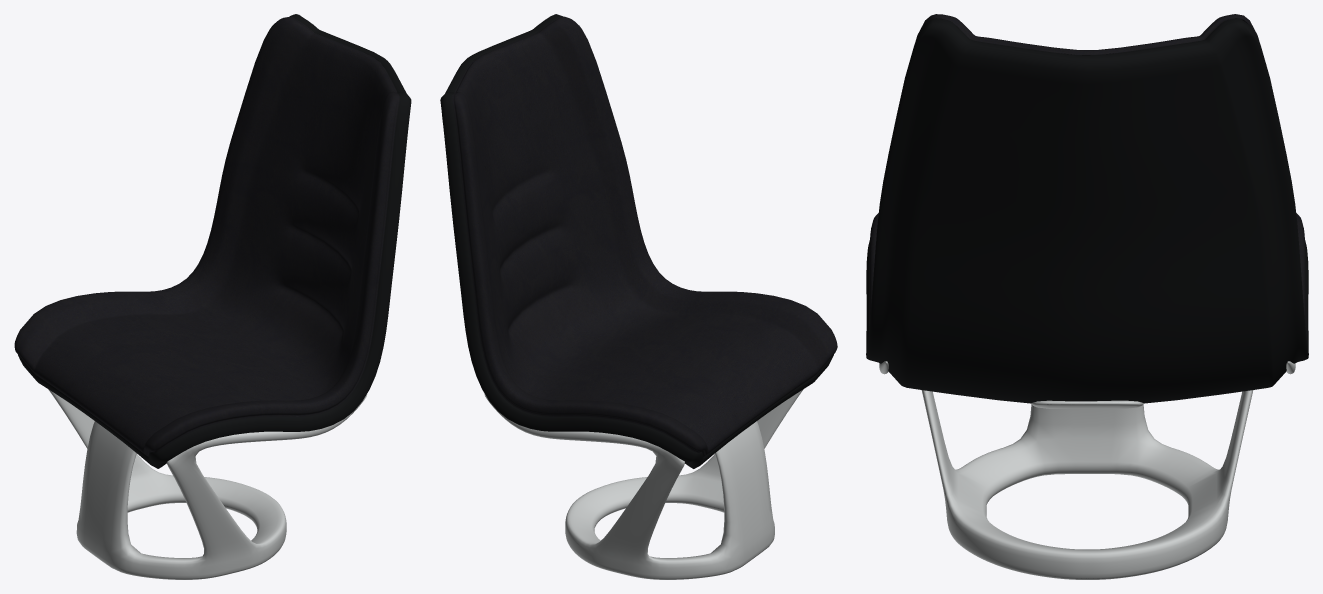
File: HighTechChair.fbx
3 renders of one model, left to right at view 1: azimuth 30°, elevation 25°; view 2: azimuth 150°, elevation 25°; view 3: azimuth 270°, elevation 25°, orthographic. The views are drawn at different scales.
Visible parts, largest first — view 1: OBJ_HighTechChair_base; view 2: OBJ_HighTechChair_base; view 3: OBJ_HighTechChair_base.
Part boxes in pixels (x1,y1,x2,y2): OBJ_HighTechChair_base: [14, 14, 411, 579]; OBJ_HighTechChair_base: [440, 14, 837, 579]; OBJ_HighTechChair_base: [866, 14, 1308, 579].
Size of the model in its own units: 60.75 by 84.47 by 55.23.
Materials: 1 (1 with a texture image).
